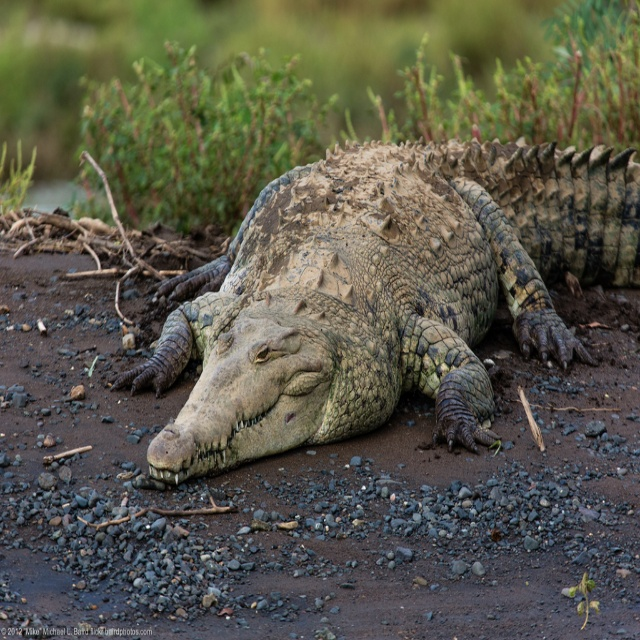Crocodile: (108, 139, 640, 485)
